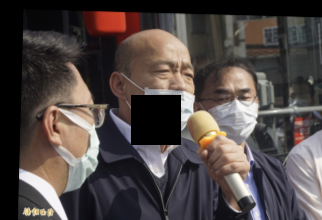mask_weared_incorrect: (121, 55, 194, 141)
with_mask: (55, 88, 108, 195), (197, 83, 259, 145)
